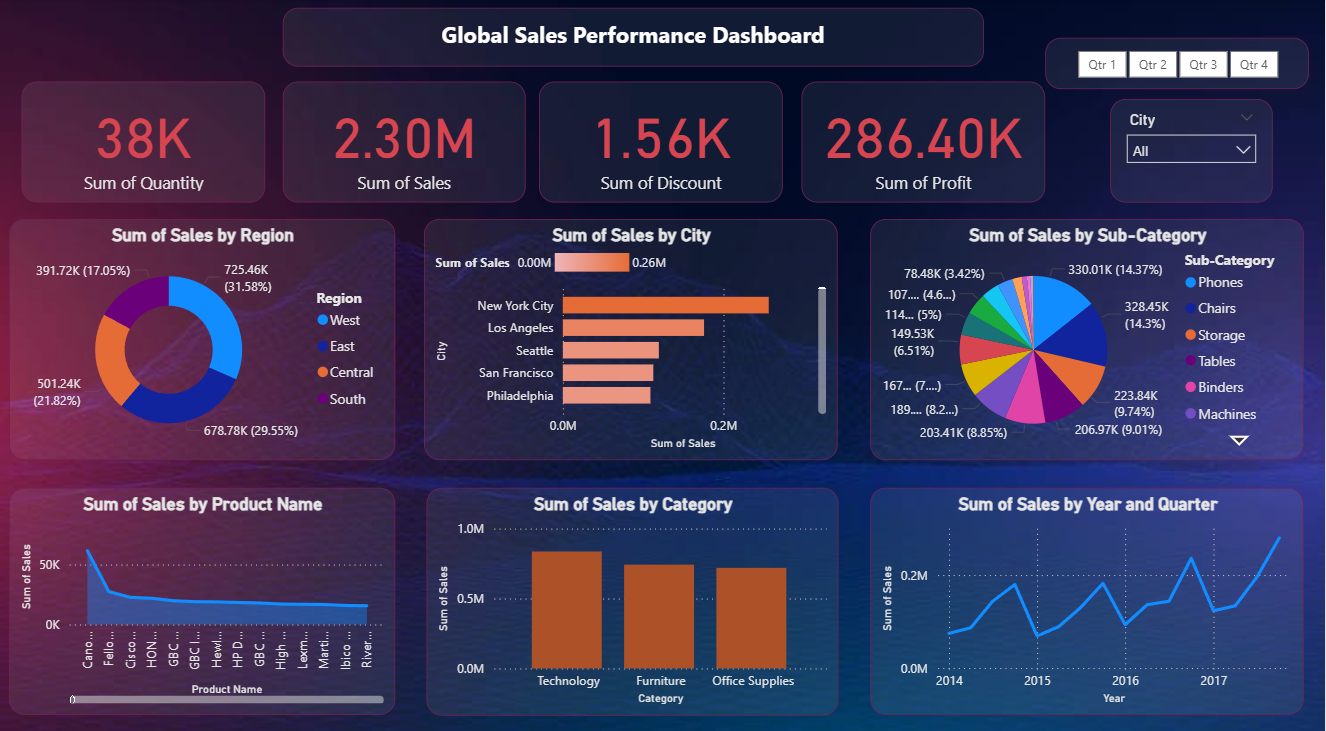

The dashboard page shown, as its layout file describes it:
{"tool":"powerbi","page":{"name":"Page 1","canvas":[1280,720],"ordinal":0},"visuals":[{"type":"textbox","box":[273.9,8.4,676.8,56.7],"z":0},{"type":"donutChart","fields":{"Category":["Orders.Region"],"Y":["Sum(Orders.Sales)"]},"box":[9.7,212.3,372.8,232.8],"z":1000},{"type":"clusteredColumnChart","fields":{"Category":["Orders.Category"],"Y":["Sum(Orders.Sales)"]},"box":[412.5,471.2,397.5,220],"z":2000},{"type":"clusteredBarChart","fields":{"Y":["Sum(Orders.Sales)"],"Category":["Orders.City"]},"box":[410.2,212.3,399.3,232.8],"z":3000},{"type":"stackedAreaChart","fields":{"Category":["Orders.Product Name"],"Y":["Sum(Orders.Sales)"]},"box":[9.7,471.7,372.8,219.6],"z":4000},{"type":"pieChart","fields":{"Y":["Sum(Orders.Sales)"],"Category":["Orders.Sub-Category"]},"box":[840.9,212.3,418.6,232.8],"z":5000},{"type":"lineChart","fields":{"Category":["Orders.Order Date.Variation.Date Hierarchy.Year","Orders.Order Date.Variation.Date Hierarchy.Quarter","Orders.Order Date.Variation.Date Hierarchy.Month","Orders.Order Date.Variation.Date Hierarchy.Day"],"Y":["Sum(Orders.Sales)"]},"box":[840.9,471.7,418.6,219.6],"z":6000},{"type":"card","fields":{"Values":["Sum(Orders.Quantity)"]},"box":[21.7,79.6,235.3,117],"z":7000},{"type":"card","fields":{"Values":["Sum(Orders.Sales)"]},"box":[273.9,79.6,234,117],"z":8000},{"type":"card","fields":{"Values":["Sum(Orders.Discount)"]},"box":[521.2,79.6,235.3,117],"z":9000},{"type":"card","fields":{"Values":["Sum(Orders.Profit)"]},"box":[774.5,79.6,235.3,117],"z":10000},{"type":"slicer","fields":{"Values":["Orders.Order Date.Variation.Date Hierarchy.Quarter"]},"box":[1009.8,37.4,254.6,49.5],"z":11000},{"type":"slicer","fields":{"Values":["Orders.City"]},"box":[1072.5,96.5,156.8,100.1],"z":12000}]}

Visuals, with their boxes in screenshot pixels (x1, y1, x2, y2), scaled from the page's 1280x720 canvas onto the 1326x731 screenshot:
textbox: bbox=(284, 9, 985, 66)
donutChart - Orders.Region x Sum(Orders.Sales): bbox=(10, 216, 396, 452)
clusteredColumnChart - Orders.Category x Sum(Orders.Sales): bbox=(427, 478, 839, 702)
clusteredBarChart - Sum(Orders.Sales) x Orders.City: bbox=(425, 216, 839, 452)
stackedAreaChart - Orders.Product Name x Sum(Orders.Sales): bbox=(10, 479, 396, 702)
pieChart - Sum(Orders.Sales) x Orders.Sub-Category: bbox=(871, 216, 1305, 452)
lineChart - Orders.Order Date.Variation.Date Hierarchy.Year x Orders.Order Date.Variation.Date Hierarchy.Quarter: bbox=(871, 479, 1305, 702)
card - Sum(Orders.Quantity): bbox=(22, 81, 266, 200)
card - Sum(Orders.Sales): bbox=(284, 81, 526, 200)
card - Sum(Orders.Discount): bbox=(540, 81, 784, 200)
card - Sum(Orders.Profit): bbox=(802, 81, 1046, 200)
slicer - Orders.Order Date.Variation.Date Hierarchy.Quarter: bbox=(1046, 38, 1310, 88)
slicer - Orders.City: bbox=(1111, 98, 1273, 200)
